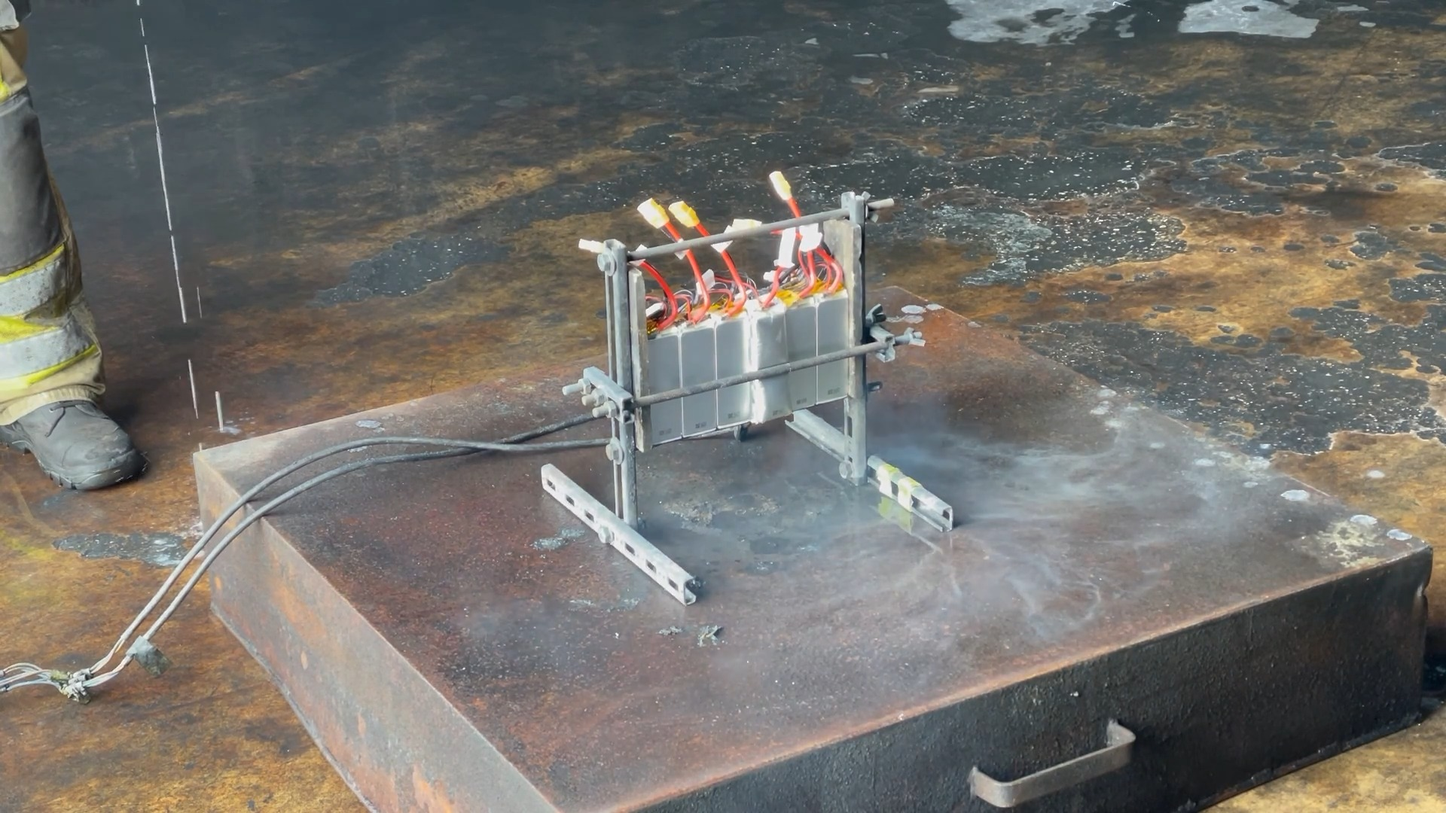smoke: (835, 405, 1252, 628)
